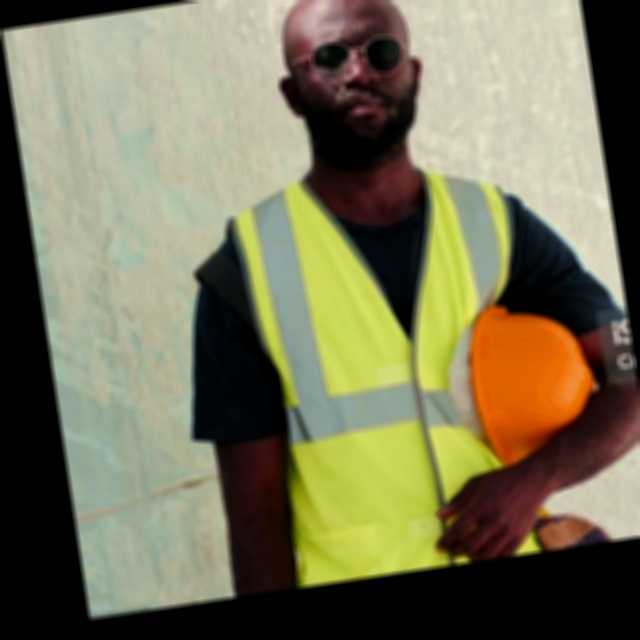Con_Chaleco: (213, 153, 558, 592)
Sin_Casco_Mascarrilla: (262, 0, 437, 180)
